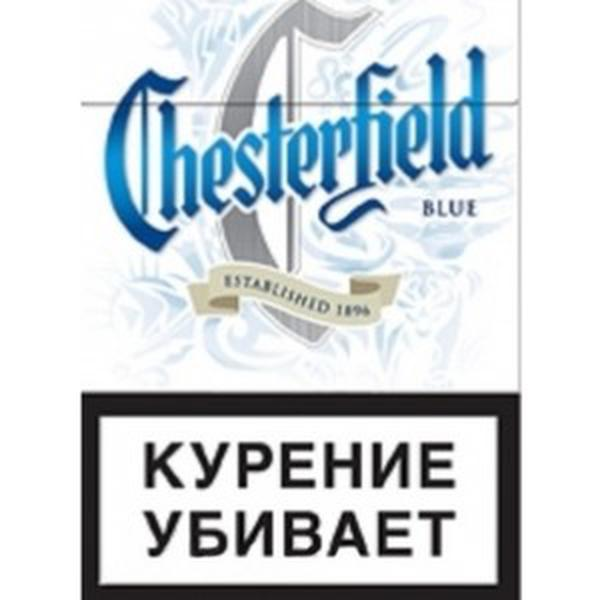chesterfield_blue: (80, 1, 518, 599)
